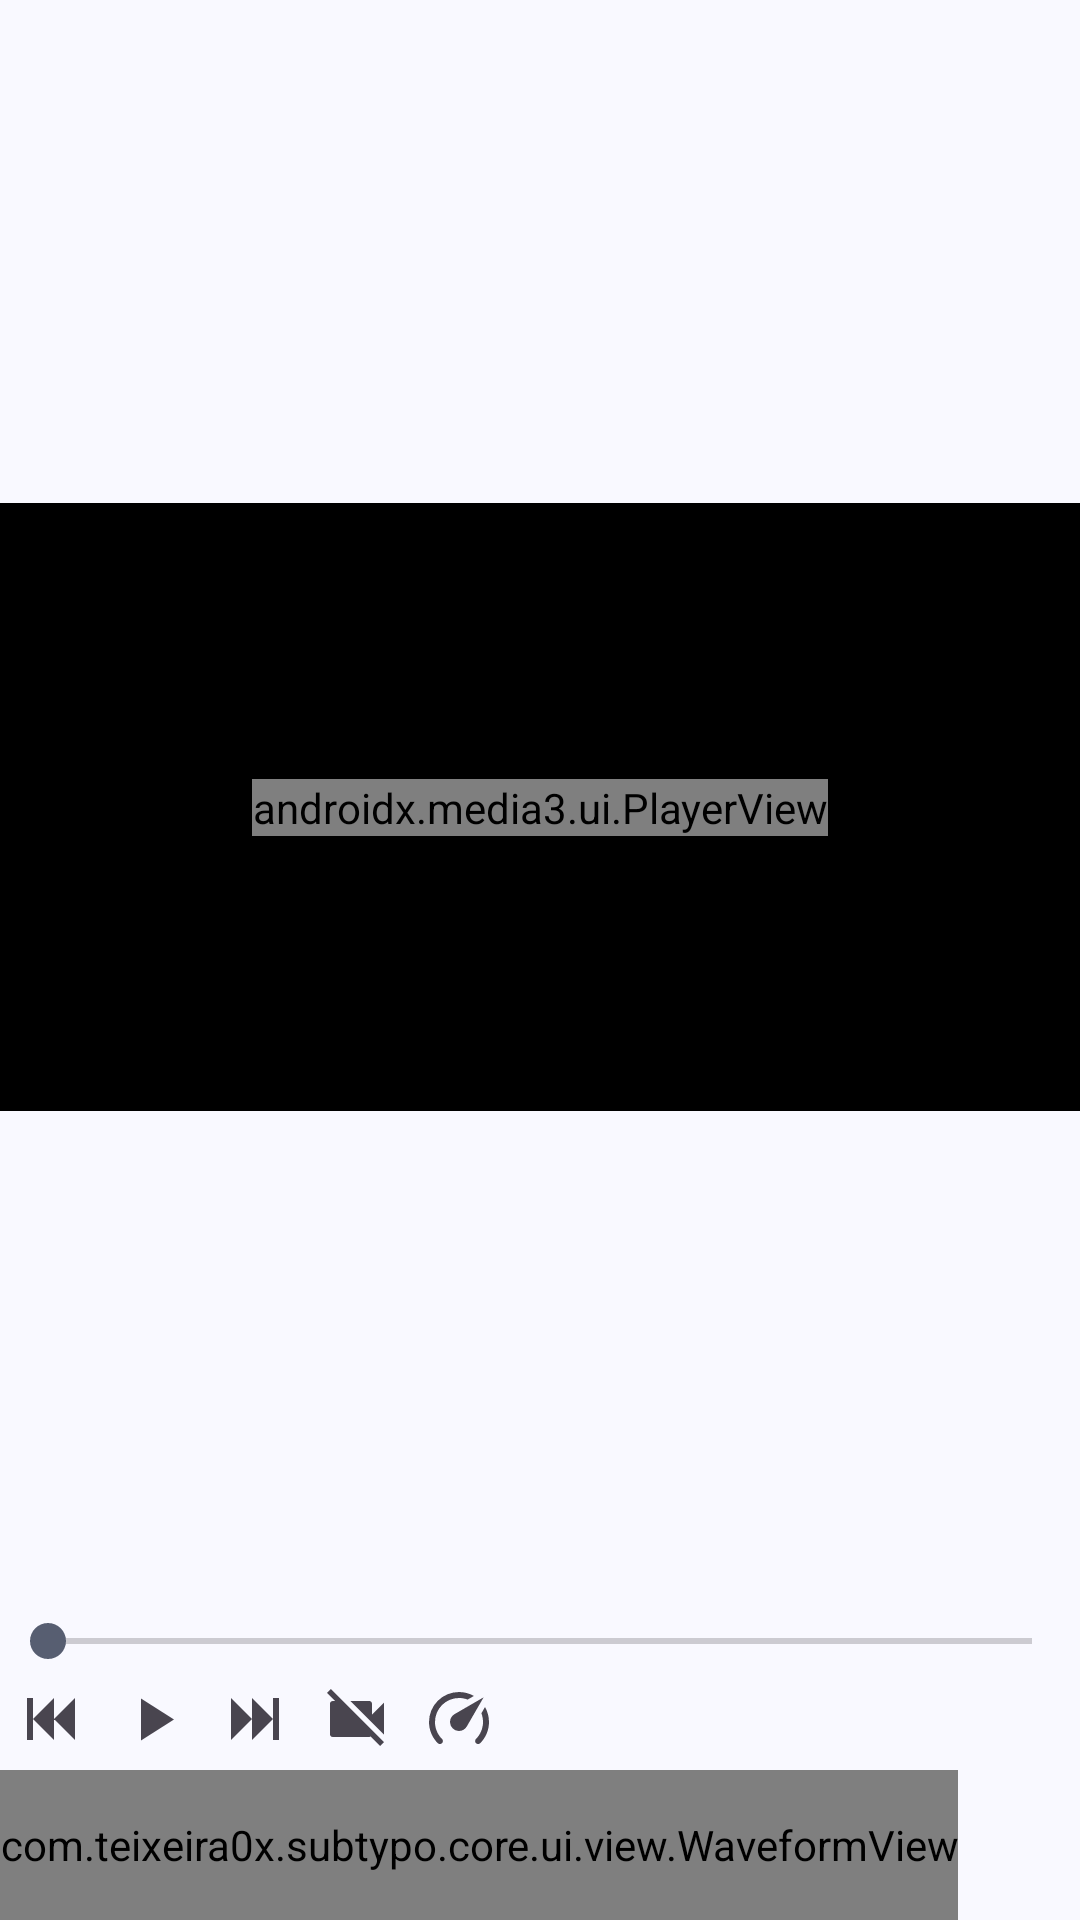

Point at icon controls on the screen. Image size 1080×1920, points as (x,y).
Backward: (51,1719)
Forward: (255,1719)
Pause or play video: (157,1719)
Playback speed: (459,1718)
Video player visibility: (355,1717)
